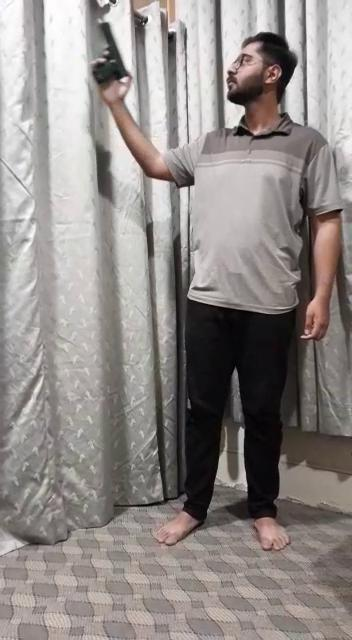criminal: (86, 16, 346, 553)
weapon: (89, 19, 129, 88)
